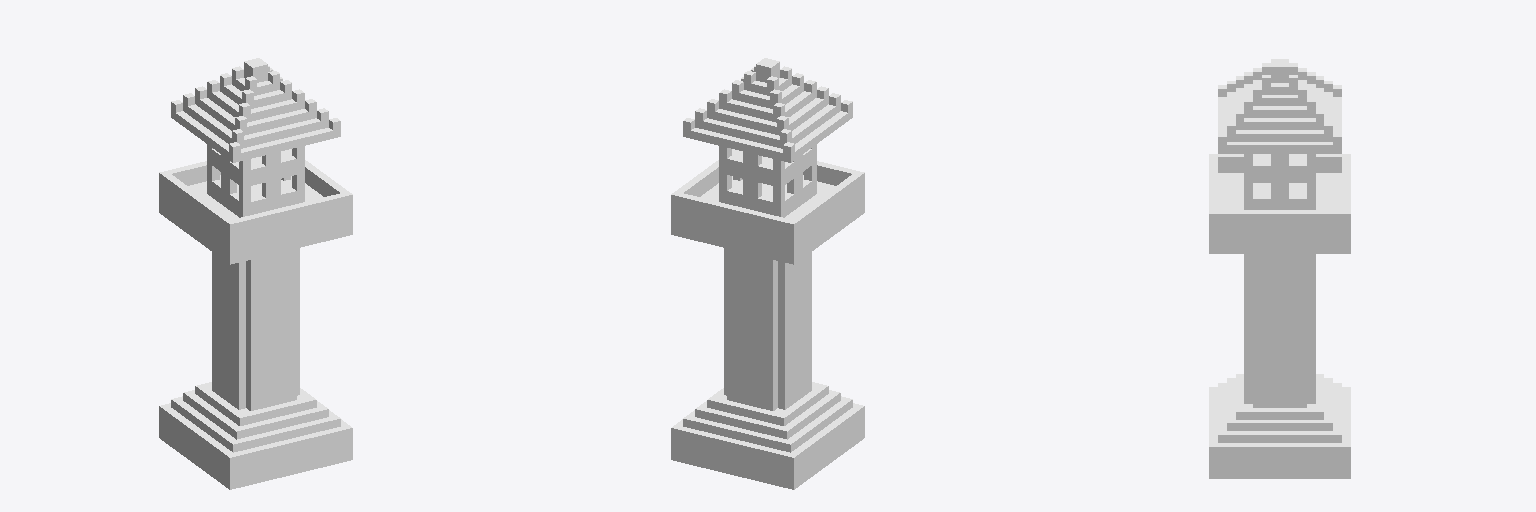
Rendered from komischerTurm.obj.
3 renders of one model, left to right at view 1: azimuth 30°, elevation 25°; view 2: azimuth 150°, elevation 25°; view 3: azimuth 270°, elevation 25°, orthographic.
Bounding box in the file's own units: 16 × 48 × 16.